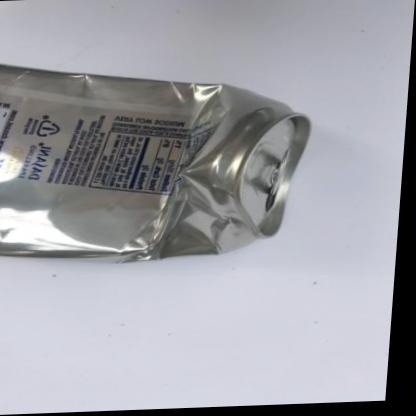trash: (0, 65, 309, 260), (0, 65, 309, 260)
